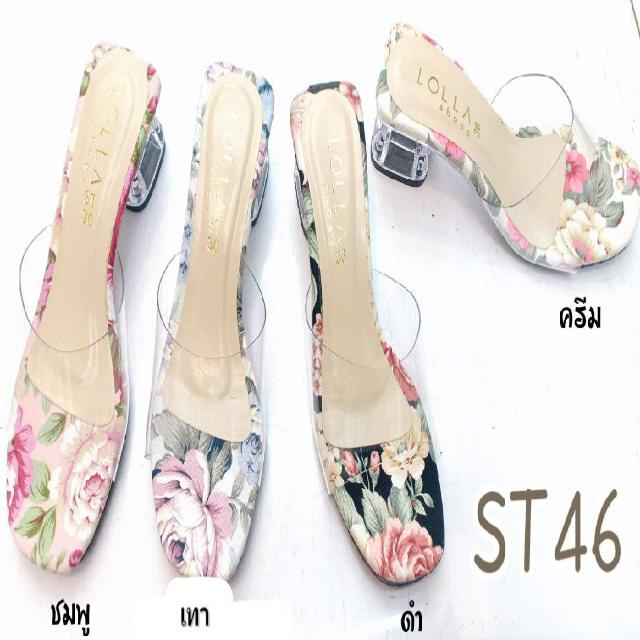black: (288, 78, 444, 576)
cream: (373, 29, 637, 280)
grey: (144, 61, 272, 580)
pink: (3, 46, 158, 566)
